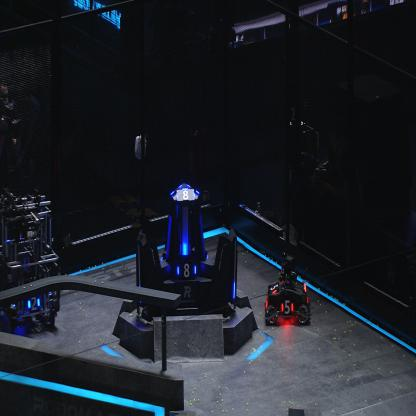car: (0, 190, 62, 330), (264, 254, 311, 327)
